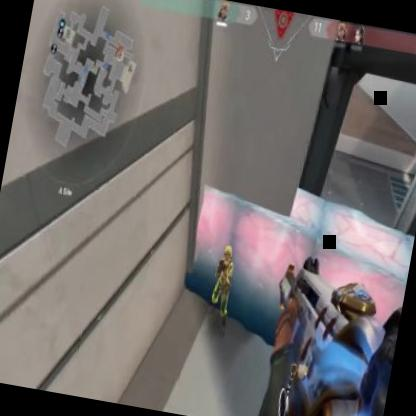enemy: (203, 240, 241, 334)
enemy_head: (222, 246, 232, 262)
